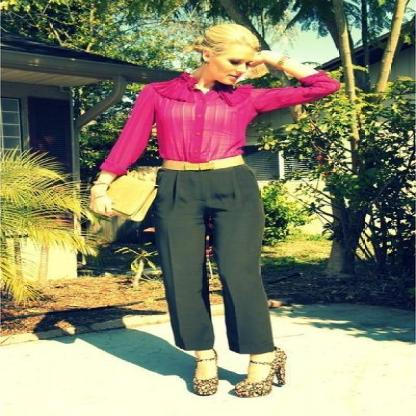bag: (118, 166, 161, 221)
pants: (137, 158, 286, 357)
shirt: (101, 75, 337, 173)
shoe: (196, 350, 286, 390)
